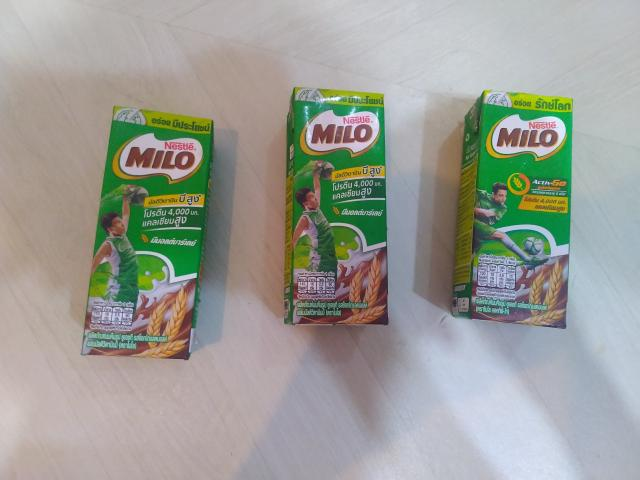drink_box: (56, 94, 238, 394), (451, 82, 592, 362), (273, 79, 412, 354)
